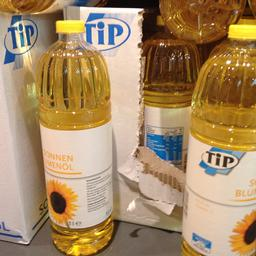oil: (34, 18, 113, 252), (180, 24, 254, 251), (140, 14, 198, 166)
